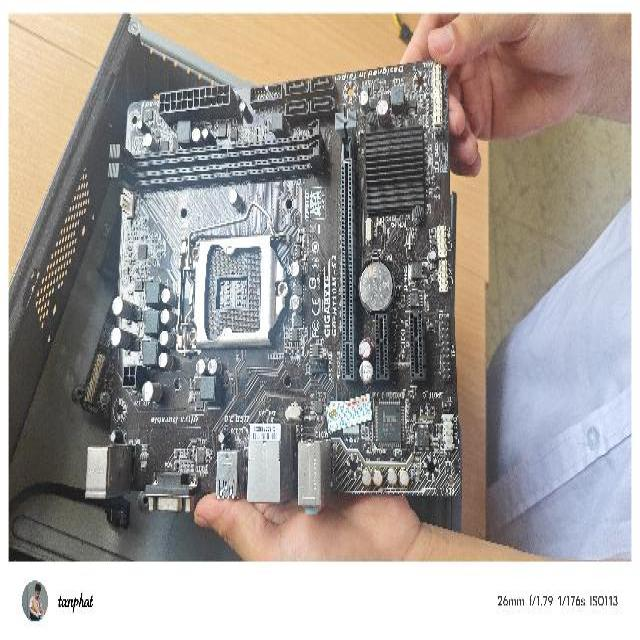Mainboard: (87, 54, 464, 508)
